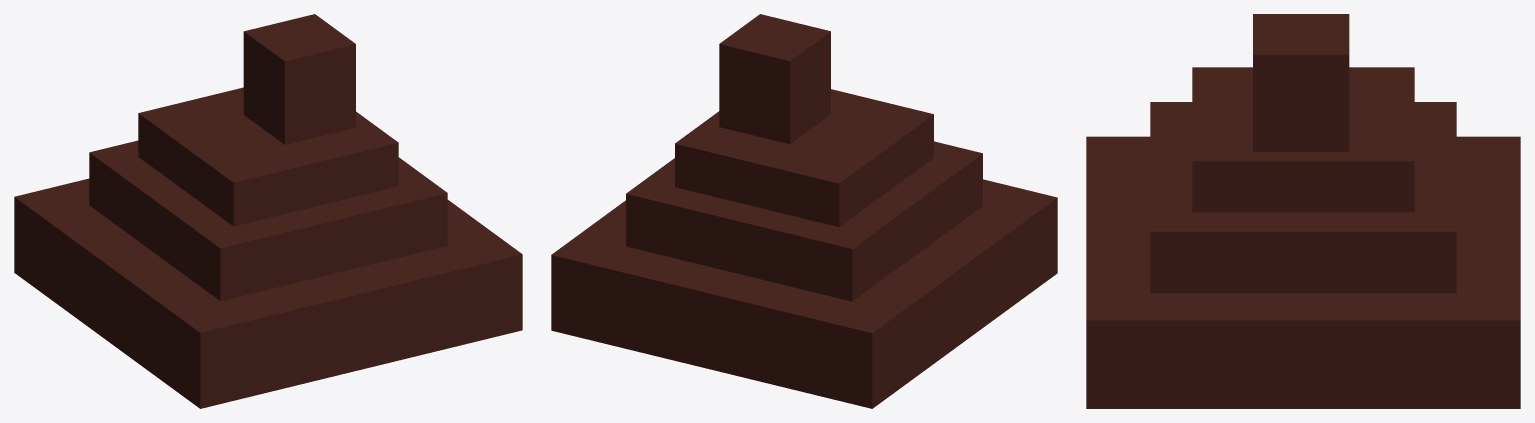
File: Poop.fbx
The picture shows the model from 3 angles, left to right: view 1: azimuth 30°, elevation 25°; view 2: azimuth 150°, elevation 25°; view 3: azimuth 270°, elevation 25°; orthographic projection. The views are drawn at different scales.
Parts seen in each view (by area): view 1: Cube.004; view 2: Cube.004; view 3: Cube.004.
Boxes of the visible parts, x1,y1,x2,y2 form: Cube.004: (14, 14, 522, 408); Cube.004: (551, 14, 1057, 408); Cube.004: (1086, 14, 1520, 408).
Size of the model in its own units: 0.0498 by 0.0379 by 0.0498.
